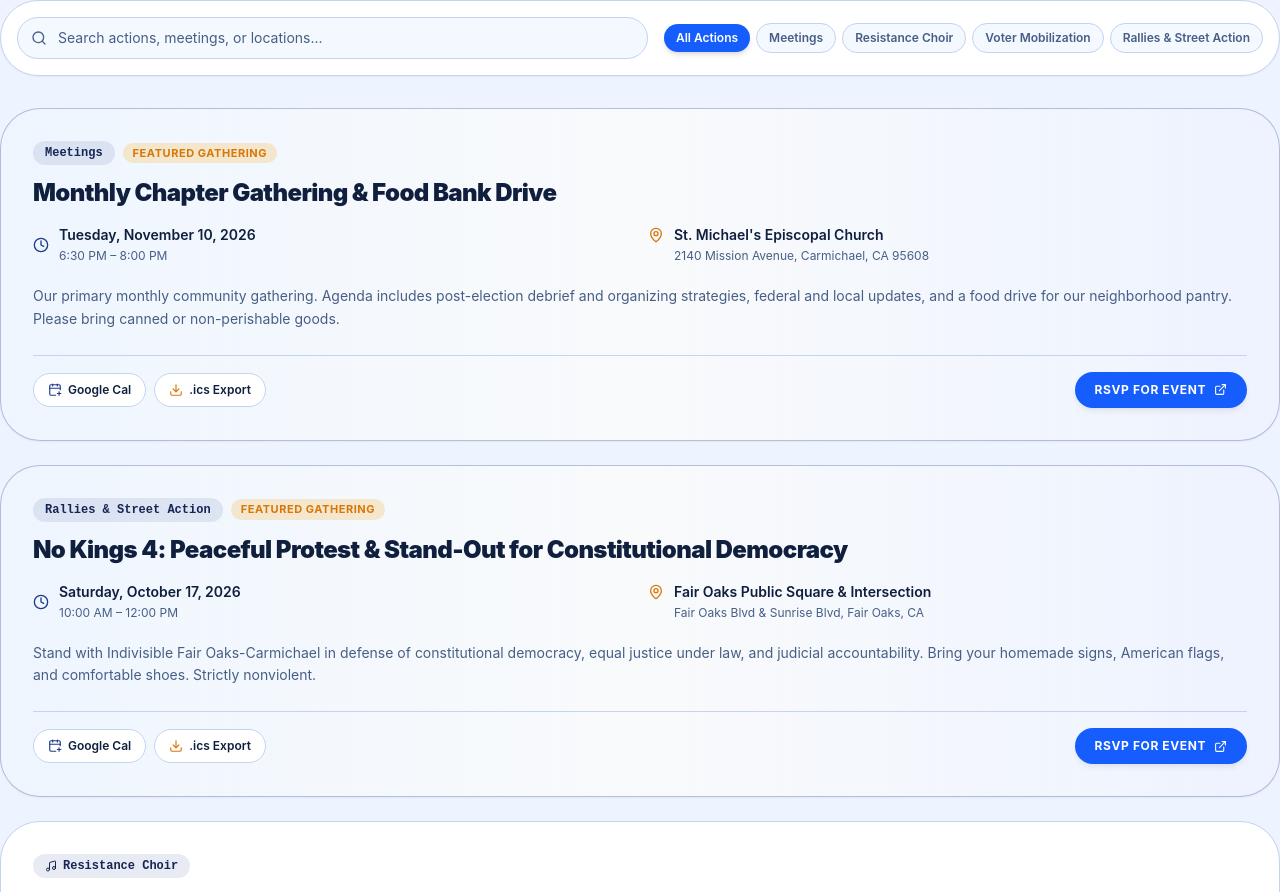
it: InteractiveEventsCalendar › filters events by category when chips are clicked
Click the button "Meetings" at (796, 38), box x1=756 y1=23 x2=836 y2=53
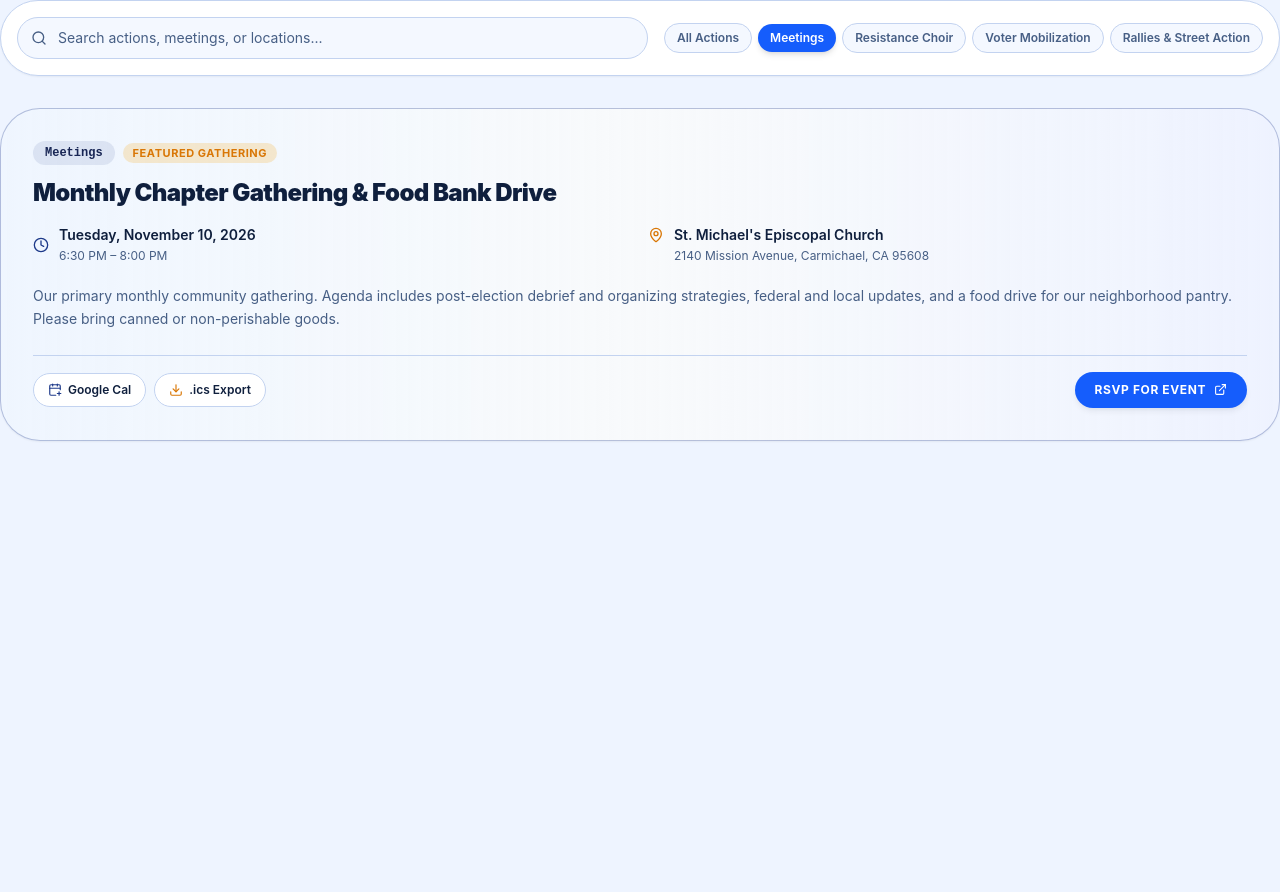
Expected: the text "Monthly Chapter Gathering & Food Bank Drive" is shown, x1=33 y1=178 x2=556 y2=207
Expected: the text "No Kings 4" is gone
Click the button "Rallies & Street Action" at (1186, 38), box x1=1110 y1=23 x2=1263 y2=53
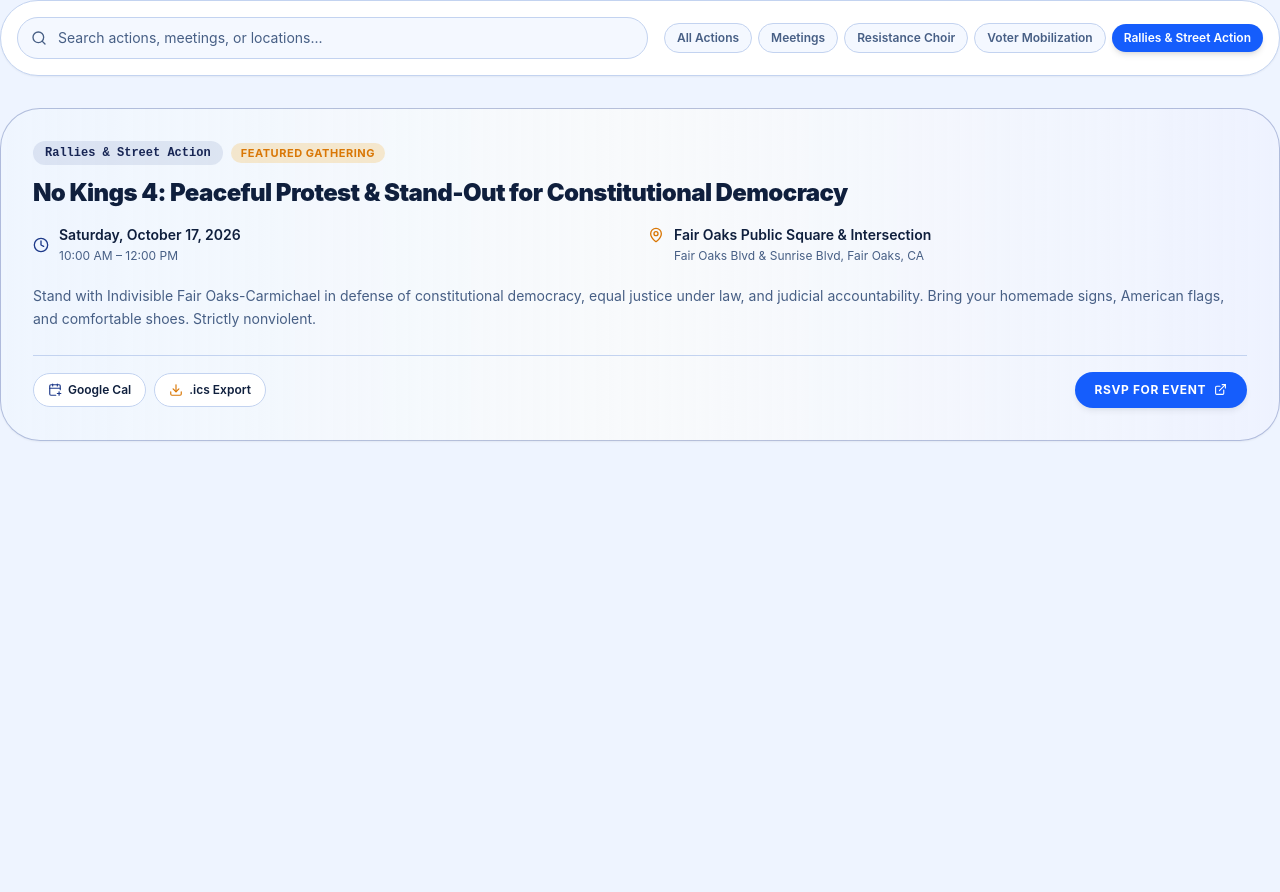
Expected: the text "No Kings 4" is shown, x1=33 y1=178 x2=848 y2=207
Expected: the text "Monthly Chapter Gathering" is gone
